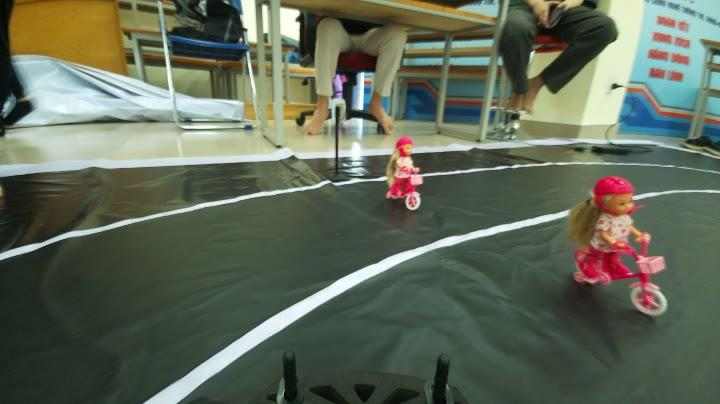pedestrian: (570, 170, 668, 313), (380, 140, 434, 210)
